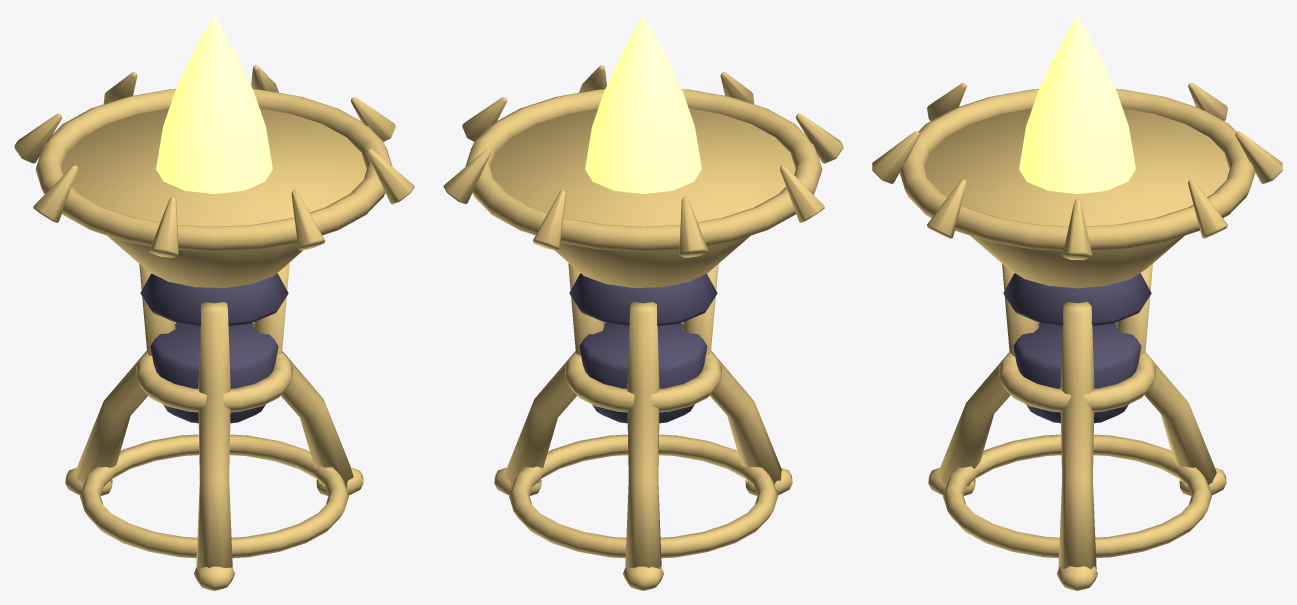
File: w6_solar_brazier.glb
The picture shows the model from 3 angles, left to right: view 1: azimuth 30°, elevation 25°; view 2: azimuth 150°, elevation 25°; view 3: azimuth 270°, elevation 25°; orthographic projection.
Parts seen in each view (by area): view 1: BaseRing, FireCore, BowlFoot; view 2: BaseRing, FireCore, BowlFoot; view 3: BaseRing, FireCore, BowlFoot.
Part boxes in pixels (x1,y1,x2,y2): BaseRing: [14, 65, 414, 590]; FireCore: [156, 14, 272, 193]; BowlFoot: [140, 273, 288, 423]; BaseRing: [443, 65, 843, 590]; FireCore: [585, 14, 701, 193]; BowlFoot: [569, 273, 717, 423]; BaseRing: [872, 83, 1282, 590]; FireCore: [1019, 14, 1135, 193]; BowlFoot: [1003, 273, 1151, 423].
Size of the model in its own units: 1.39 by 1.91 by 1.39.
